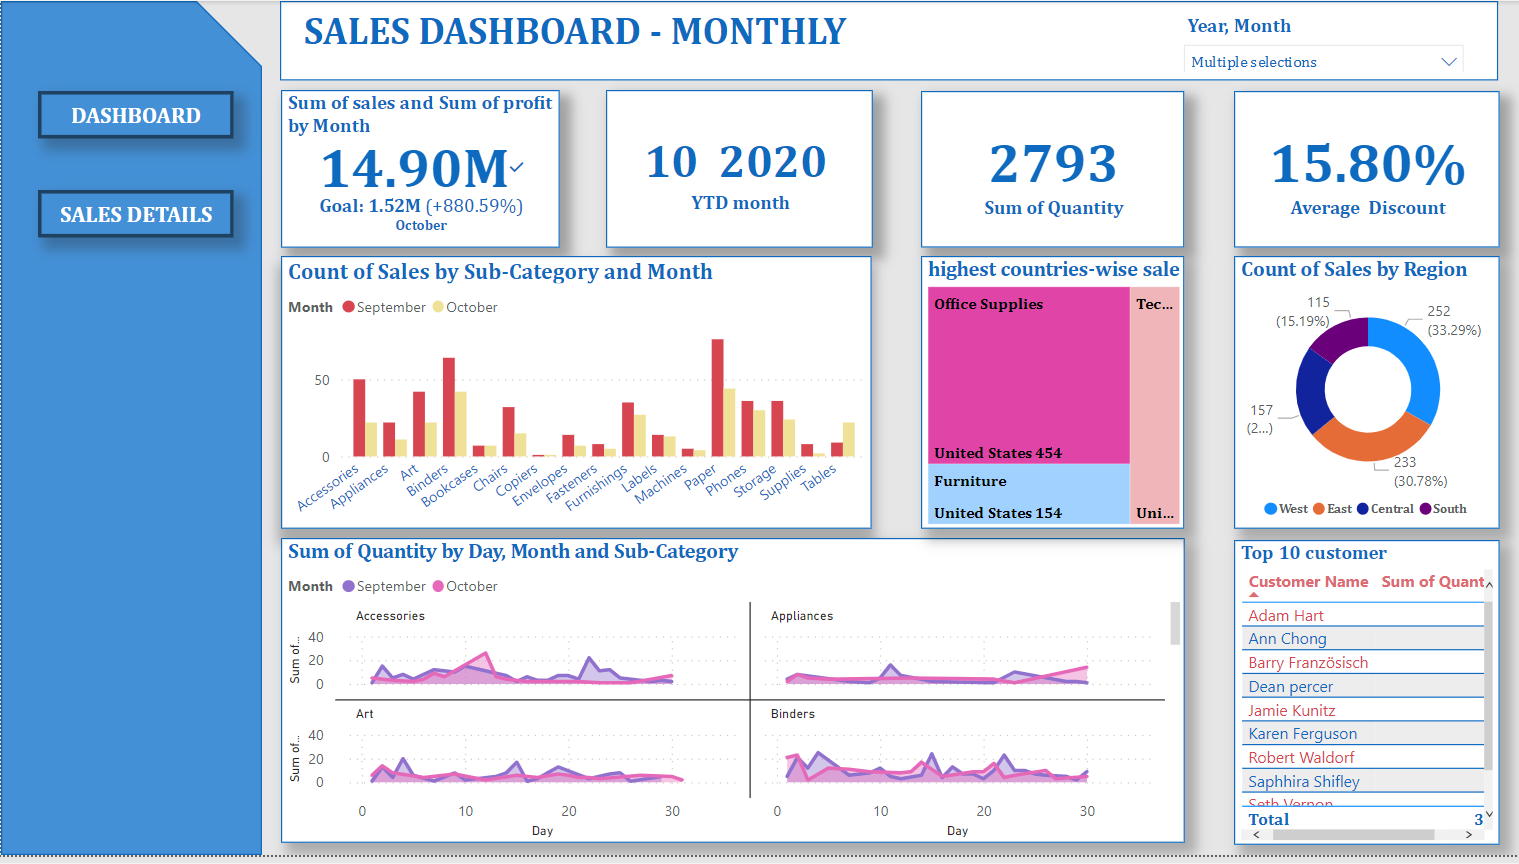

Layout of this report page (visuals, bound fields, positions):
{"tool":"powerbi","page":{"name":"Page 1","canvas":[1280,720],"ordinal":0},"visuals":[{"type":"shape","box":[0,0,219.8,719.8],"z":0},{"type":"card","fields":{"Values":["Sheet2.sales"]},"box":[235.9,76,225,132.2],"z":0,"group":"g1"},{"type":"card","fields":{"Values":["Sheet1.Quantity"]},"box":[775.7,76,222.1,132.2],"z":1000,"group":"g1"},{"type":"actionButton","box":[31.1,159.5,165.3,39.9],"z":1000},{"type":"card","fields":{"Values":["Sheet2.profit"]},"box":[502.4,76,231.9,132.2],"z":2000,"group":"g1"},{"type":"actionButton","box":[31.1,75.9,165.3,39.9],"z":2000},{"type":"textbox","box":[235.5,0,1027.2,67.2],"z":3000},{"type":"card","fields":{"Values":["Sheet1.Measure"]},"box":[1039.2,76,224,132.2],"z":3000,"group":"g1"},{"type":"slicer","fields":{"Values":["Sheet1.Order Date.Variation.Date Hierarchy.Year","Sheet1.Order Date.Variation.Date Hierarchy.Month"]},"box":[986.9,6.3,256.1,53.7],"z":4000},{"type":"clusteredColumnChart","fields":{"Category":["Sheet1.Sub-Category"],"Series":["Sheet1.Order Date.Variation.Date Hierarchy.Month"],"Y":["Sheet1.Sales"]},"box":[235.9,215.2,498.4,229.9],"z":4000,"group":"g1"},{"type":"group","id":"g1","title":"Group 1","box":[235.9,76,1027.4,634.6],"z":5000},{"type":"areaChart","fields":{"Category":["Sheet1.Order Date.Variation.Date Hierarchy.Day"],"Y":["Sheet1.Sales"],"Series":["Sheet1.Order Date.Variation.Date Hierarchy.Month"]},"box":[235.9,454,761.9,256.6],"z":5000,"group":"g1"},{"type":"donutChart","fields":{"Category":["Sheet1.Category"],"Y":["Sheet1.Sales"]},"box":[1039,215,224,230],"z":6000,"group":"g1"},{"type":"tableEx","title":"Top 10 customer","fields":{"Values":["Sheet1.Customer Name","Sheet1.Quantity"]},"box":[1039.2,454,224,256.6],"z":7000,"group":"g1"},{"type":"treemap","title":"highest countries-wise sale","fields":{"Group":["Sheet1.Category"],"Values":["Sheet1.Sales"],"Details":["Sheet1.Country/Region"]},"box":[775.4,214.8,222.5,230.2],"z":8000,"group":"g1"}]}

Visuals, with their boxes in screenshot pixels (x1, y1, x2, y2), scaled from the page's 1280x720 canvas onto the 1519x864 screenshot:
shape: left=0, top=0, right=261, bottom=863
card - Sheet2.sales: left=280, top=91, right=547, bottom=250
card - Sheet1.Quantity: left=921, top=91, right=1184, bottom=250
actionButton: left=37, top=191, right=233, bottom=239
card - Sheet2.profit: left=596, top=91, right=871, bottom=250
actionButton: left=37, top=91, right=233, bottom=139
textbox: left=279, top=0, right=1498, bottom=81
card - Sheet1.Measure: left=1233, top=91, right=1499, bottom=250
slicer - Sheet1.Order Date.Variation.Date Hierarchy.Year x Sheet1.Order Date.Variation.Date Hierarchy.Month: left=1171, top=8, right=1475, bottom=72
clusteredColumnChart - Sheet1.Sub-Category x Sheet1.Order Date.Variation.Date Hierarchy.Month: left=280, top=258, right=871, bottom=534
"Group 1" group: left=280, top=91, right=1499, bottom=853
areaChart - Sheet1.Order Date.Variation.Date Hierarchy.Day x Sheet1.Sales: left=280, top=545, right=1184, bottom=853
donutChart - Sheet1.Category x Sheet1.Sales: left=1233, top=258, right=1499, bottom=534
"Top 10 customer" tableEx: left=1233, top=545, right=1499, bottom=853
"highest countries-wise sale" treemap: left=920, top=258, right=1184, bottom=534
